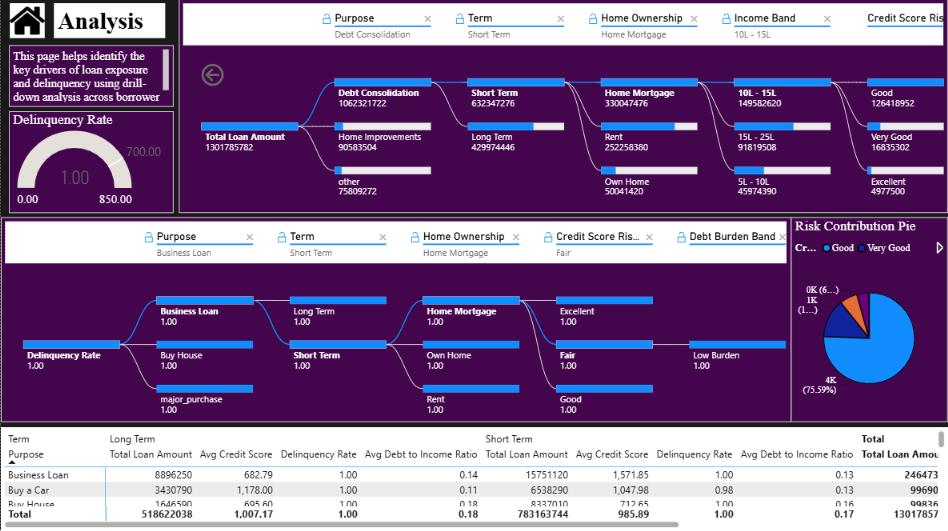

This screenshot's page, from the dashboard's own definition file:
{"tool":"powerbi","page":{"name":"Interactive Insights & Root-Cause Analysis","canvas":[1280,720],"ordinal":4},"visuals":[{"type":"decompositionTreeVisual","fields":{"Analyze":["credit_test.Total Loan Amount"],"ExplainBy":["credit_test.Purpose","credit_test.Term","credit_test.Home Ownership","credit_test.Income Band","credit_test.Credit Score Risk Band"]},"box":[240.8,0,1039.4,289],"z":0},{"type":"decompositionTreeVisual","fields":{"Analyze":["credit_test.Delinquency Rate"],"ExplainBy":["credit_test.Purpose","credit_test.Term","credit_test.Home Ownership","credit_test.Credit Score Risk Band","credit_test.Debt Burden Band"]},"box":[0,294.9,1068.2,277.2],"z":1000},{"type":"actionButton","box":[266.2,82.8,99.7,39.7],"z":2000},{"type":"gauge","fields":{"Y":["credit_test.Delinquency Rate"]},"box":[10.1,151.3,222.3,137.7],"z":3000},{"type":"pieChart","title":"Risk Contribution Pie","fields":{"Category":["credit_test.Credit Score Risk Band"],"Y":["credit_test.Loan Count"]},"box":[1068.2,294.9,212.1,277.2],"z":4000},{"type":"pivotTable","fields":{"Rows":["credit_test.Purpose"],"Columns":["credit_test.Term"],"Values":["credit_test.Total Loan Amount","credit_test.Avg Credit Score","credit_test.Delinquency Rate","credit_test.Avg Debt to Income Ratio"]},"box":[0,578.7,1280,141],"z":5000},{"type":"image","box":[0,5.9,71.8,47.3],"z":6000},{"type":"textbox","box":[71.8,5.9,150.4,47.3],"z":7000},{"type":"textbox","box":[10.1,61.7,222.3,82.8],"z":8000}]}

Visuals, with their boxes in screenshot pixels (x1, y1, x2, y2), scaled from the page's 1280x720 canvas onto the 948x531 screenshot:
decompositionTreeVisual - credit_test.Total Loan Amount x credit_test.Purpose: bbox=[178, 0, 947, 213]
decompositionTreeVisual - credit_test.Delinquency Rate x credit_test.Purpose: bbox=[0, 217, 791, 422]
actionButton: bbox=[197, 61, 271, 90]
gauge - credit_test.Delinquency Rate: bbox=[7, 112, 172, 213]
"Risk Contribution Pie" pieChart: bbox=[791, 217, 947, 422]
pivotTable - credit_test.Purpose x credit_test.Term: bbox=[0, 427, 947, 530]
image: bbox=[0, 4, 53, 39]
textbox: bbox=[53, 4, 165, 39]
textbox: bbox=[7, 46, 172, 107]
